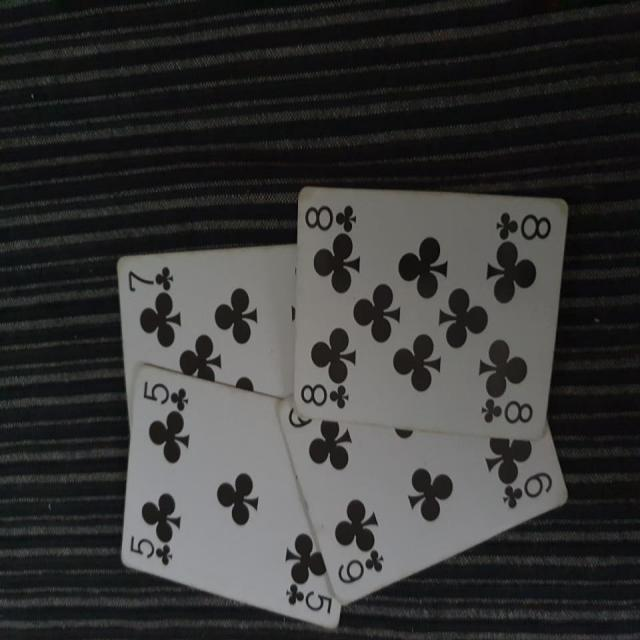5 Trefoils: (119, 362, 342, 629)
6 Trefoils: (274, 393, 570, 606)
7 Trefoils: (116, 238, 297, 439)
8 Trefoils: (291, 180, 570, 442)
